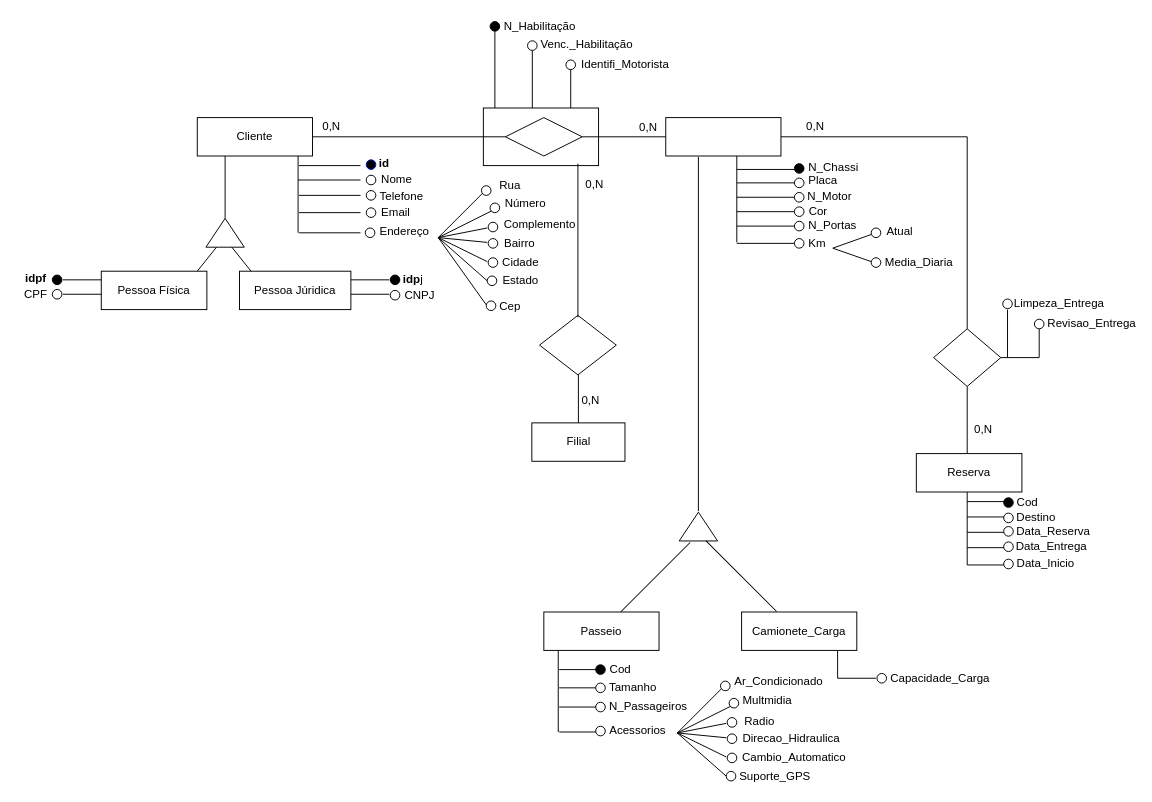
This 1152x802 diagram has some shape labels left out. The shapes that lost their labels are listed below. From the top down, each one's box as (x1, y1, x2, y2) in pixels, then its label:
(504, 117, 582, 156): Aluga
(665, 117, 781, 156): Veiculo
(539, 314, 616, 375): Loca
(933, 328, 1001, 386): Tem
